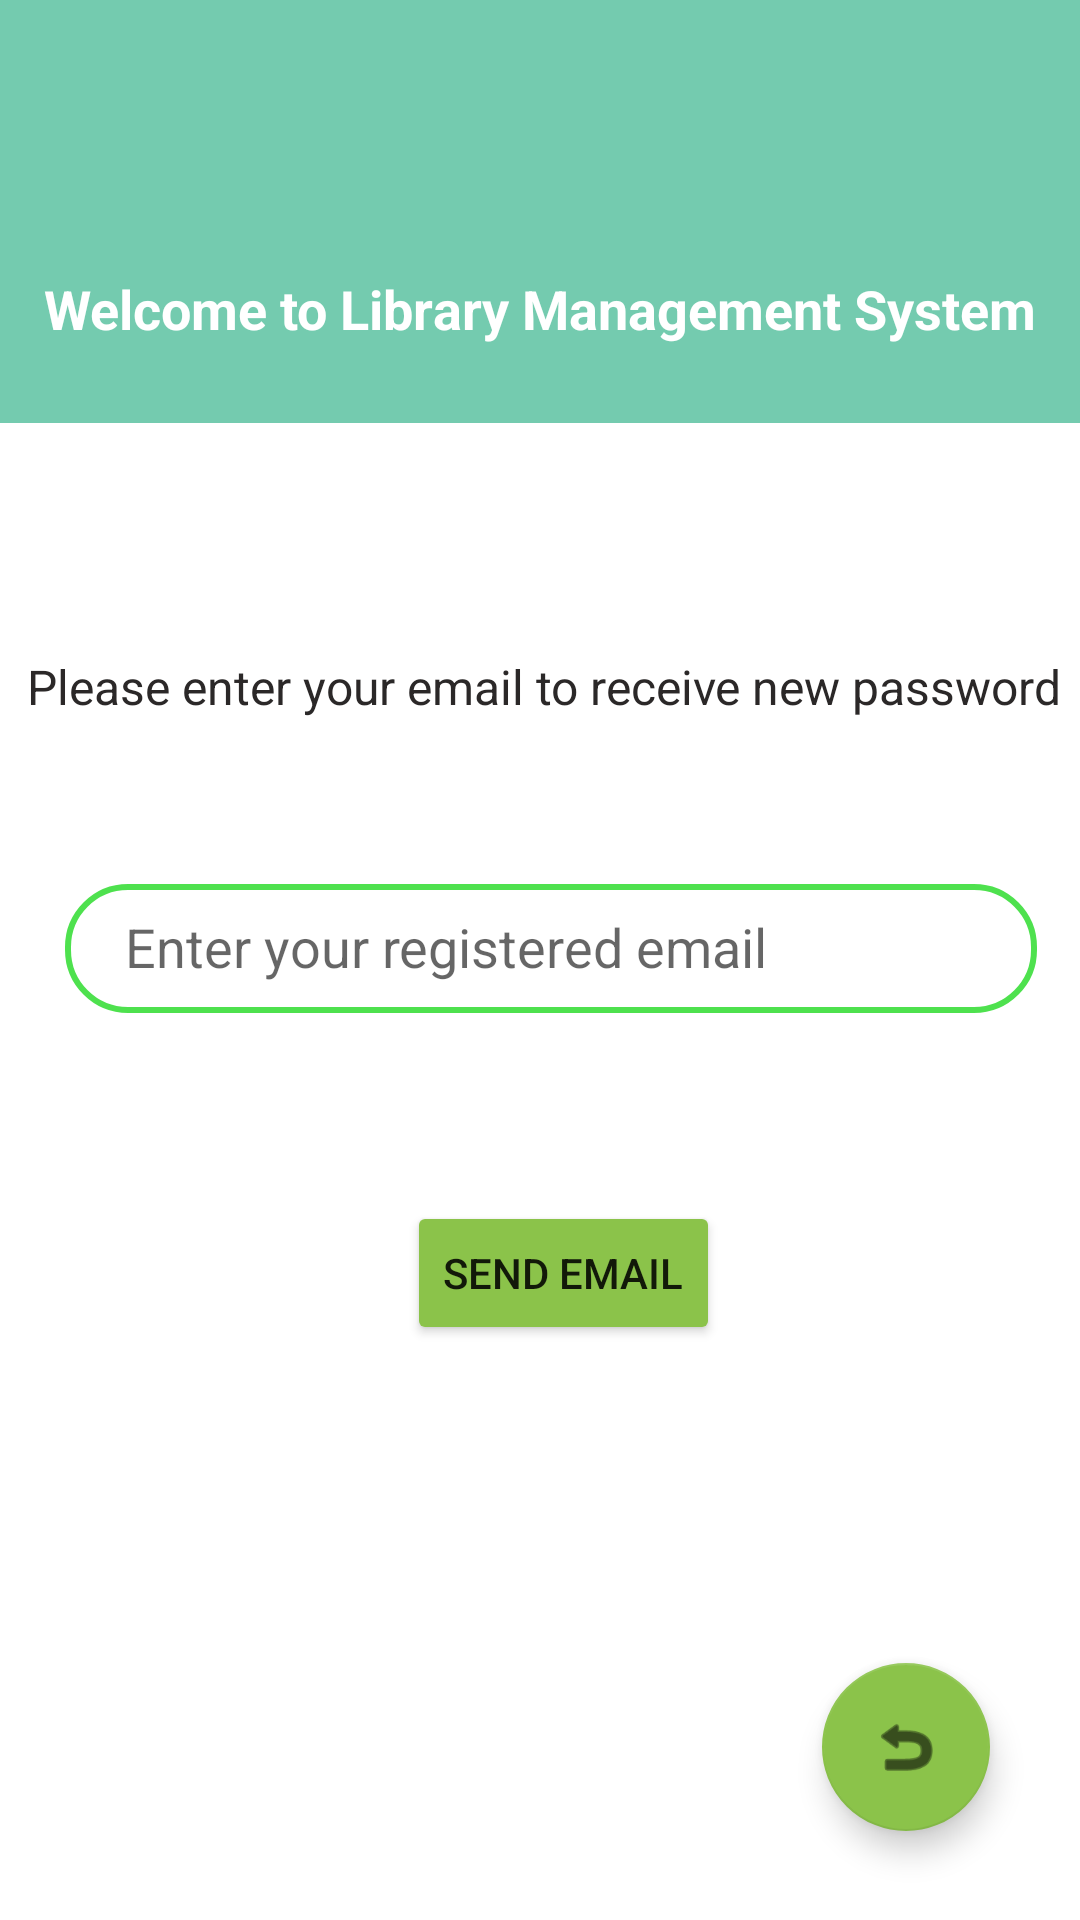

Screen size 1080x1920. Icon name, then its box in pixels as (x1, y1, x2, y2):
revert: (822, 1663, 990, 1831)
